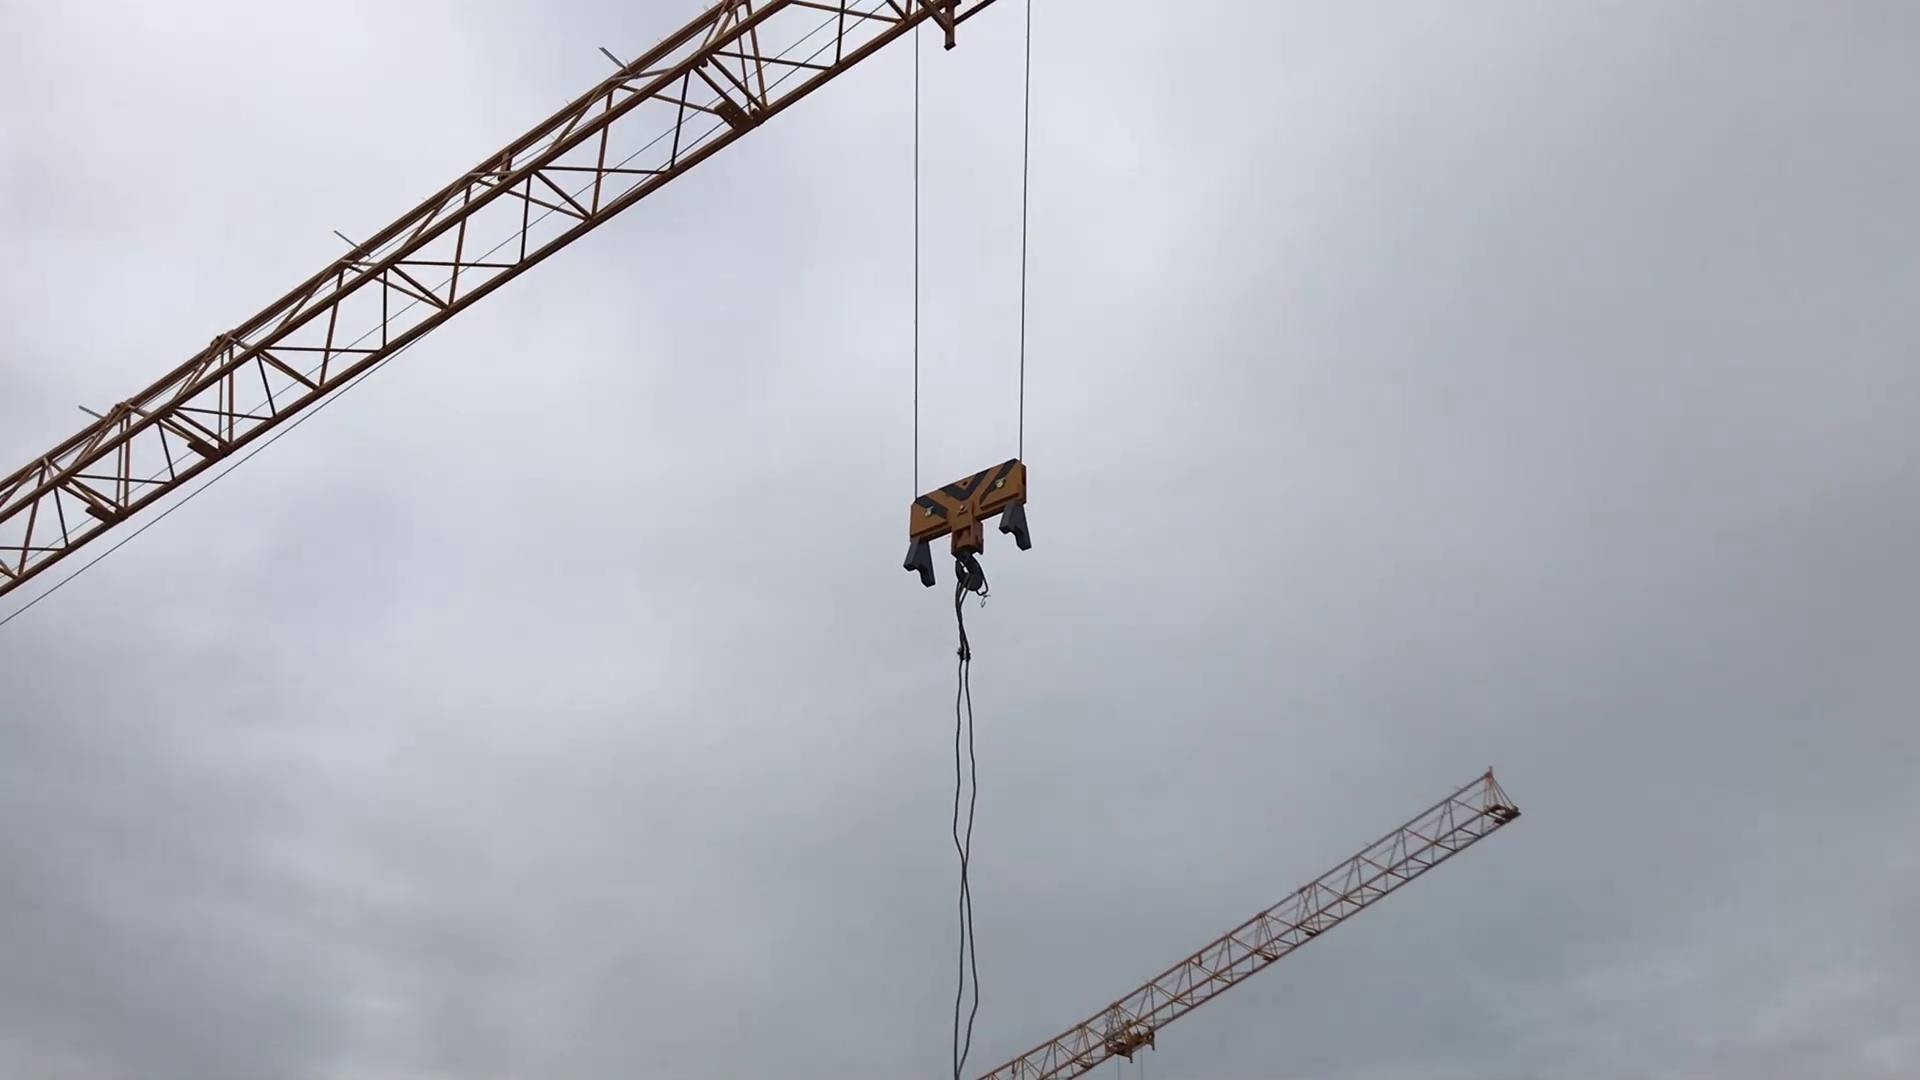hook: (901, 452, 1048, 624)
